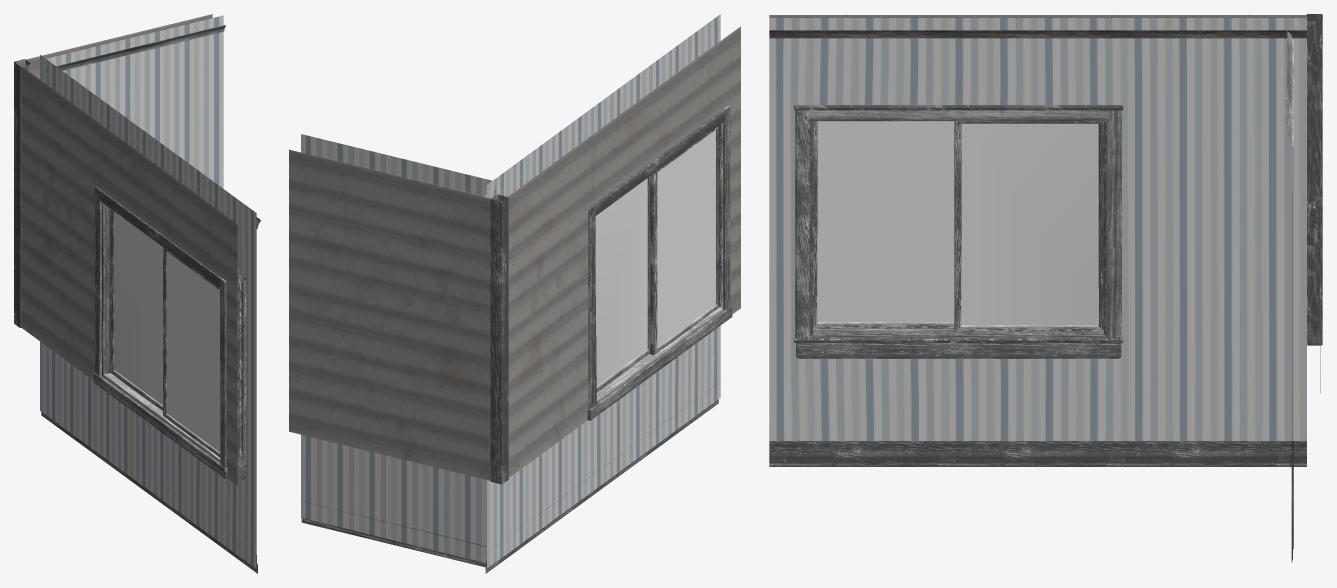
Rendered from SM_Corner_2Floor_E1_400@VertexColors_0.fbx.
The picture shows the model from 3 angles, left to right: view 1: azimuth 30°, elevation 25°; view 2: azimuth 150°, elevation 25°; view 3: azimuth 270°, elevation 25°; orthographic projection. The views are drawn at different scales.
Parts seen in each view (by area): view 1: SM_Corner_2Floor_E1_400_LOD0; view 2: SM_Corner_2Floor_E1_400_LOD0; view 3: SM_Corner_2Floor_E1_400_LOD0.
Part boxes in pixels (left/top/right/bottom): SM_Corner_2Floor_E1_400_LOD0: left=14, top=14, right=260, bottom=573; SM_Corner_2Floor_E1_400_LOD0: left=289, top=14, right=740, bottom=573; SM_Corner_2Floor_E1_400_LOD0: left=769, top=14, right=1322, bottom=562.
Bounding box in the file's own units: 149 × 288 × 258.
5 materials, 4 textured.
